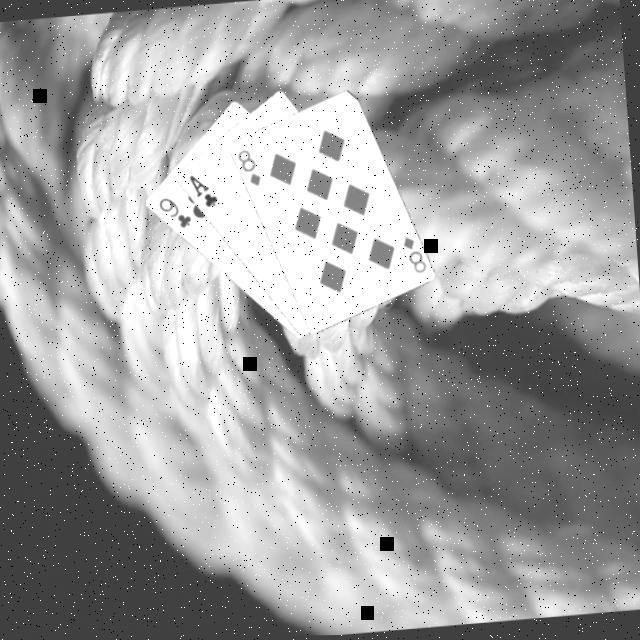8D: (234, 146, 266, 192), (400, 233, 430, 280)
9C: (156, 194, 196, 234)
AC: (186, 172, 223, 214)
